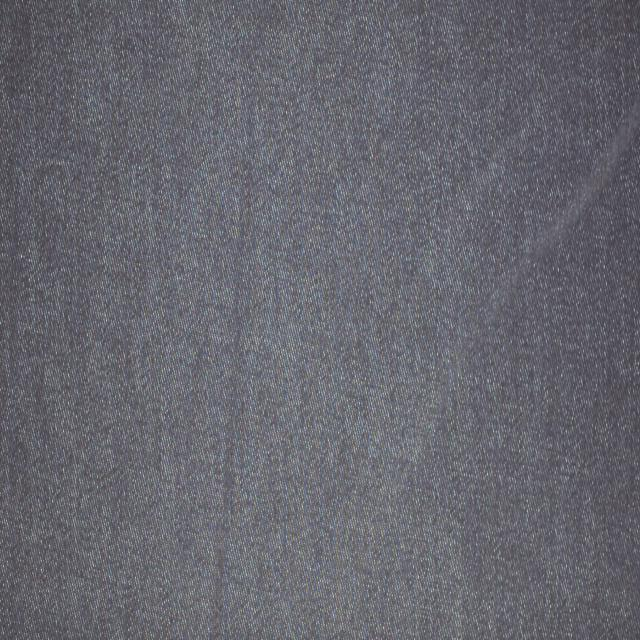Line: (206, 104, 261, 640)
